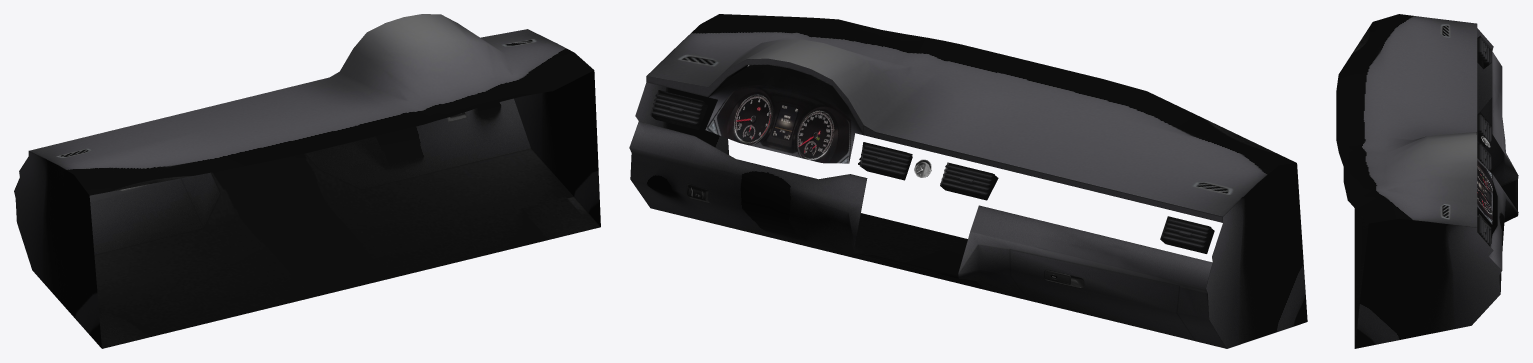
The model's file is zhongkong.FBX.
3 views of the same model, side by side, from view 1: azimuth 30°, elevation 25°; view 2: azimuth 150°, elevation 25°; view 3: azimuth 270°, elevation 25° (orthographic). The views are drawn at different scales.
Visible parts, largest first — view 1: zhongkong; view 2: zhongkong; view 3: zhongkong.
Boxes of the visible parts, x1,y1,x2,y2 form: zhongkong: (14, 14, 600, 348); zhongkong: (629, 14, 1307, 348); zhongkong: (1336, 14, 1518, 348).
Bounding box in the file's own units: 805 × 286 × 301.
